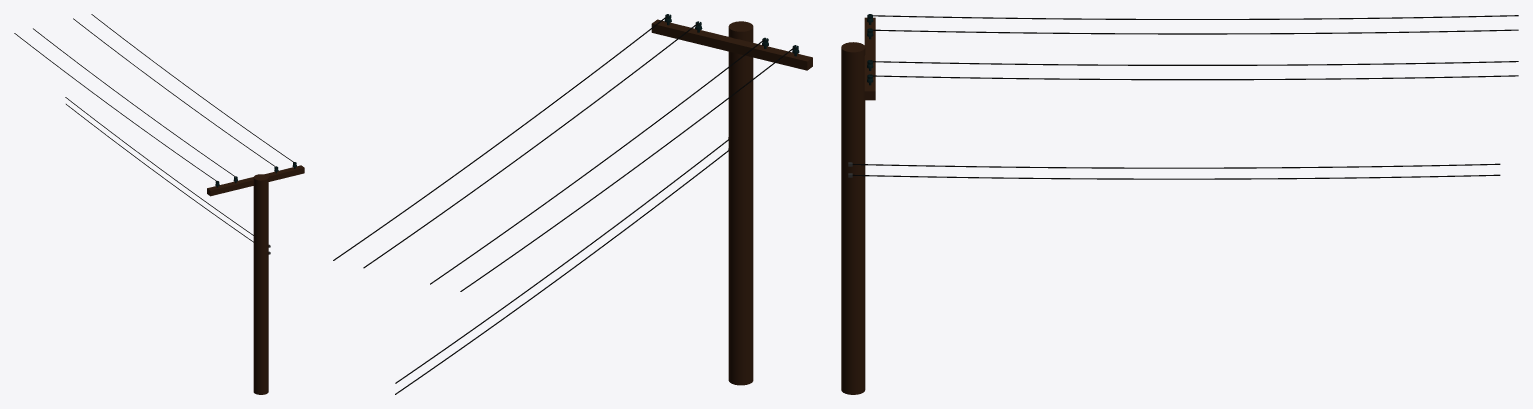
File: Pole_3.fbx
3 renders of one model, left to right at view 1: azimuth 30°, elevation 25°; view 2: azimuth 150°, elevation 25°; view 3: azimuth 270°, elevation 25°, orthographic. The views are drawn at different scales.
Parts seen in each view (by area): view 1: polySurface224; view 2: polySurface224; view 3: polySurface224.
Boxes of the visible parts, <box> form: polySurface224: <box>14,14,304,394</box>; polySurface224: <box>333,14,812,394</box>; polySurface224: <box>841,14,1518,394</box>.
Bounding box in the file's own units: 3.24 × 7.09 × 12.62.
